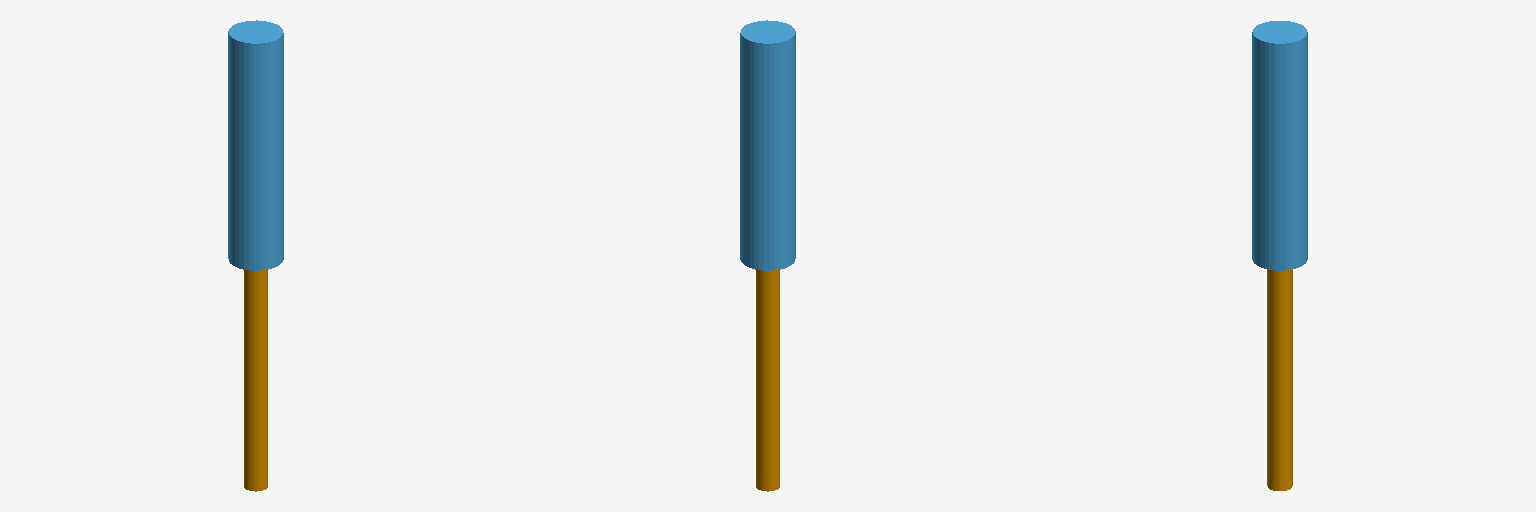
URDF robot description (screwdriver_on_the_table):
<?xml version="1.0" ?>
<!-- this is the one without any virtual joints and links -->
<robot name="screwdriver_on_the_table">
<link name="screwdriver_stick">
    <inertial>
      <mass value="0.05"/>
      <!-- <friction value="1.0"/> -->
      <inertia ixx="0.000041979" ixy="0.0" ixz="0.0" iyy="0.000041979" iyz="0.0" izz="0.000000625"/>
    </inertial>
    <visual>
        <origin rpy="0 0 0" xyz="0 0 0.05"/>
        <geometry>
            <cylinder radius="0.005" length="0.1"/>
        </geometry>
        <!-- <material name="White">
	 	    <color rgba="0.9 0.9 0.9 0.5"/>
        </material> -->
    </visual>
    <collision>
        <origin rpy="0 0 0" xyz="0 0 0.05"/>
        <geometry>
            <cylinder radius="0.005" length="0.1"/>
        </geometry>
    </collision>
</link>

<gazebo reference="screwdriver_body">
    <mu1>1.149409</mu1>
    <mu2>0.370649</mu2>
    <!-- Isaac Sim maps mu1/mu2 to PhysX static/dynamic friction during URDF→USD import -->
</gazebo>

<joint name="screwdriver_stick_body_joint" type="fixed">
    <parent link="screwdriver_stick"/>
    <child link="screwdriver_body"/>
    <origin rpy="0 0 0" xyz="0 0 0.1"/> 
    <axis xyz="0 0 1"/>
</joint>

<link name="screwdriver_body">
    <inertial>
      <mass value="0.051079"/>
      <inertia ixx="0.000044114" ixy="0.0" ixz="0.0" iyy="0.000044114" iyz="0.0" izz="0.000010000"/>
    </inertial>
    <visual>
        <origin rpy="0 0 0" xyz="0 0 0.05"/>
        <geometry>
            <cylinder radius="0.011011" length="0.1"/>
        </geometry>
        <!-- <material name="Red1">
	 	    <color rgba="0.9 0. 0. 0.5"/>
        </material> -->
    </visual>
    <collision>
        <origin rpy="0 0 0" xyz="0 0 0.05"/>
        <geometry>
            <cylinder radius="0.011011" length="0.1"/>
        </geometry>
    </collision>
</link>

<!-- <joint name="screwdriver_body_cap_joint" type="revolute">
    <parent link="screwdriver_body"/>
    <child link="screwdriver_cap"/>
    <origin rpy="0 0 0" xyz="0 0 0.1"/> 
    <axis xyz="0 0 1"/>
</joint>

<link name="screwdriver_cap">
    <inertial>
      <mass value="0.005"/>
      <inertia ixx="0.00001" ixy="0.0" ixz="0.0" iyy="0.000005" iyz="0.0" izz="0.000005"/>
    </inertial>
    <visual>
        <origin rpy="0 0 0" xyz="0 0 0.0006"/>
        <geometry>
            <cylinder radius="0.02" length="0.001"/>
        </geometry>
        <material name="Yellow">
	 	    <color rgba="0.9 0.9 0. 1.0"/>
        </material>
    </visual>
    <collision>
        <origin rpy="0 0 0" xyz="0 0 0.0005"/>
        <geometry>
            <cylinder radius="0.02" length="0.001"/>
        </geometry>
    </collision>
</link> -->

</robot>

--- What the picture shows (computed from the rendered views, not written in the file) ---
The picture shows the robot from 3 angles, left to right: view 1: azimuth 30°, elevation 25°; view 2: azimuth 150°, elevation 25°; view 3: azimuth 270°, elevation 25°; orthographic projection.
Model screwdriver_on_the_table with 2 links and 1 joints (1 fixed), rooted at screwdriver_stick, posed all joints at 0.
Links seen in each view (by area): view 1: screwdriver_body, screwdriver_stick; view 2: screwdriver_body, screwdriver_stick; view 3: screwdriver_body, screwdriver_stick.
Link boxes in pixels (x1,y1,x2,y2): screwdriver_body: (228, 20, 283, 270); screwdriver_stick: (244, 270, 267, 491); screwdriver_body: (740, 20, 795, 270); screwdriver_stick: (756, 270, 779, 491); screwdriver_body: (1252, 21, 1307, 270); screwdriver_stick: (1267, 270, 1292, 490).
Size in the robot's own frame: 0.022 by 0.022 by 0.2 metres.
Geometry: primitives only (box / cylinder / sphere), no mesh files.
